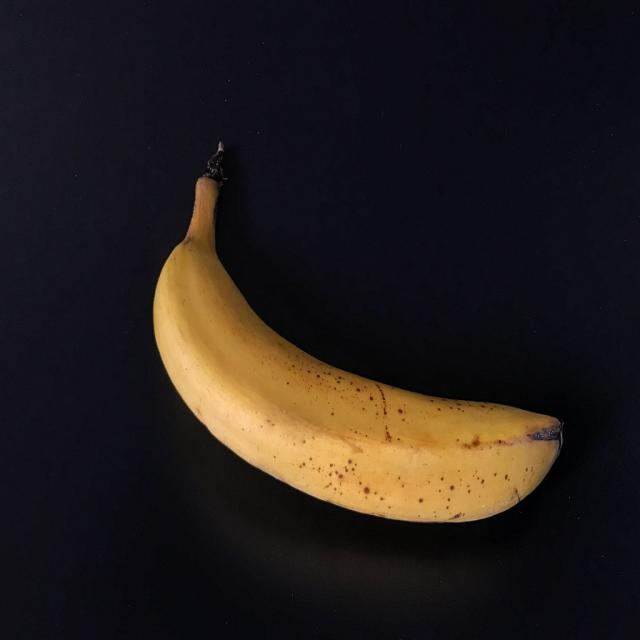Banana: (147, 145, 568, 534)
